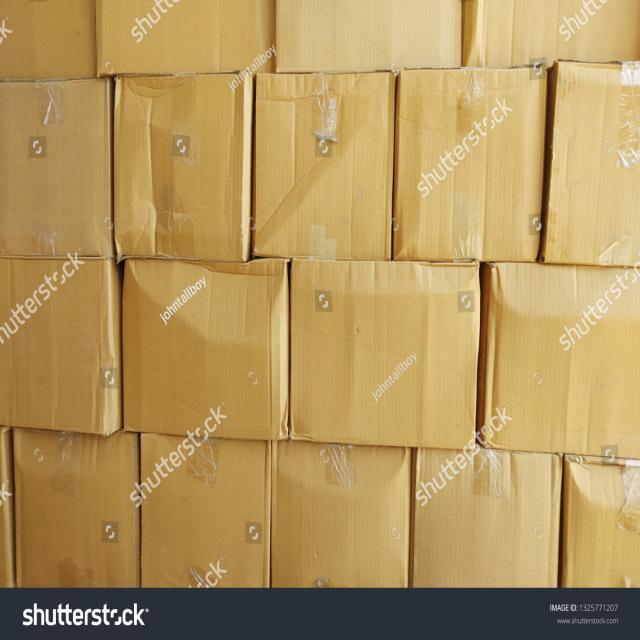BoxFace: (288, 252, 478, 450), (482, 262, 640, 452), (124, 258, 290, 436), (394, 65, 542, 259), (251, 70, 394, 259), (113, 75, 248, 259), (0, 79, 113, 264), (270, 440, 410, 588), (0, 257, 119, 431), (0, 259, 119, 431), (134, 436, 270, 586), (412, 450, 562, 586), (12, 430, 139, 586), (542, 61, 638, 266), (272, 0, 461, 68), (97, 0, 276, 68), (464, 0, 640, 63), (565, 457, 636, 588), (0, 0, 94, 81)
